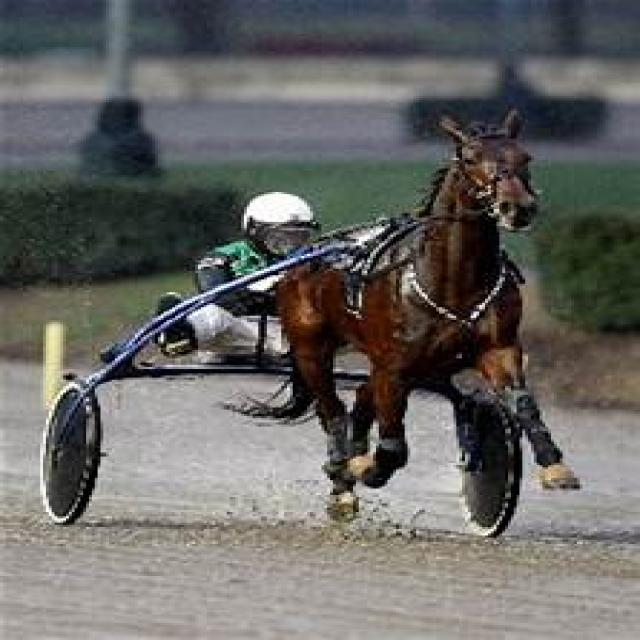horse: (273, 113, 577, 538)
